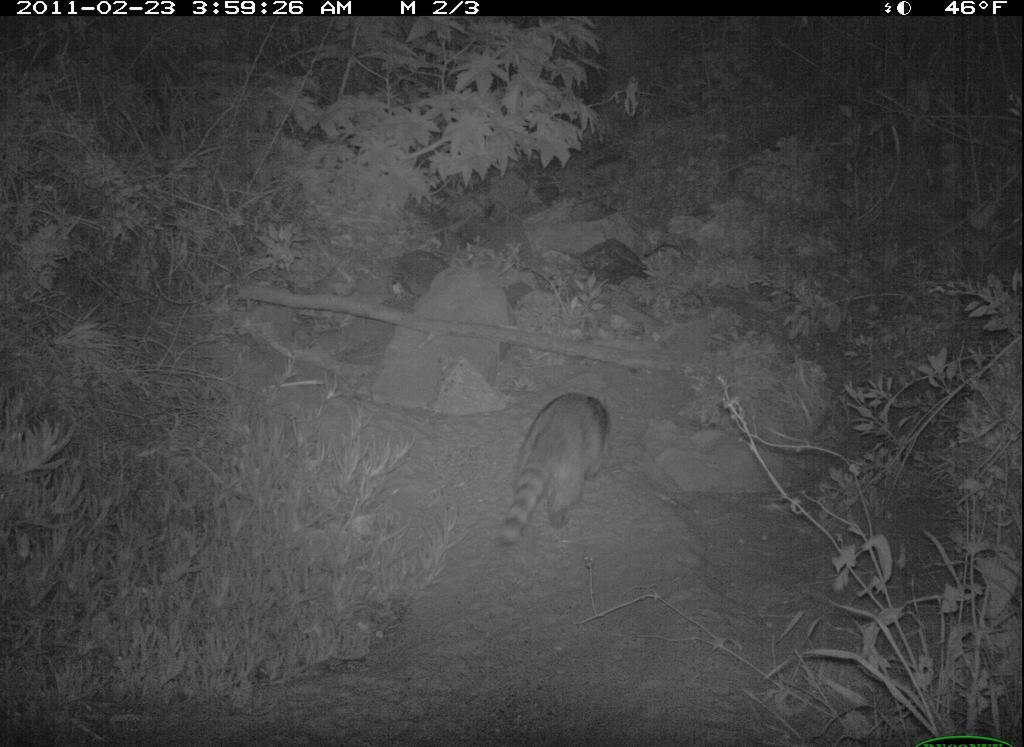raccoon: (493, 385, 624, 564)
